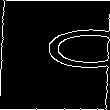O_W: (2, 33, 108, 77)
